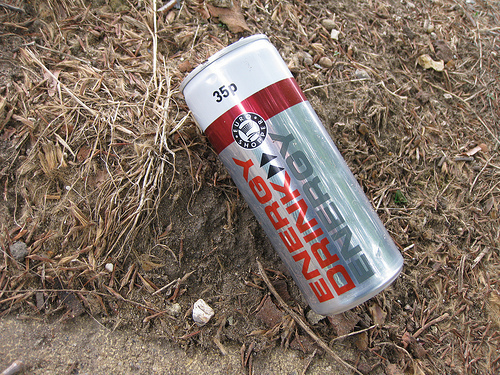litter: (180, 33, 404, 318)
